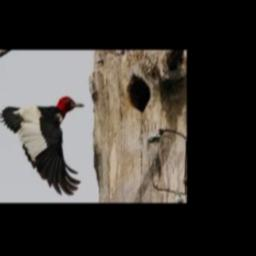Woodpecker: (0, 97, 84, 195)
